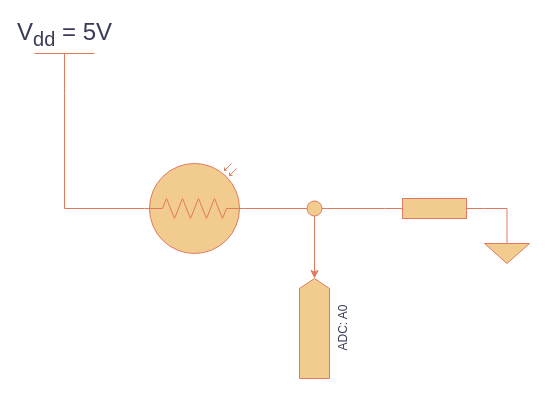
Some shapes in this 547 by 396 pixel diagram are drawn without their labels. The centre of each missing label's shape, as x and y in pixels:
"10kΩ" goes at (x=434, y=208).
"photoresistor" goes at (x=194, y=208).
